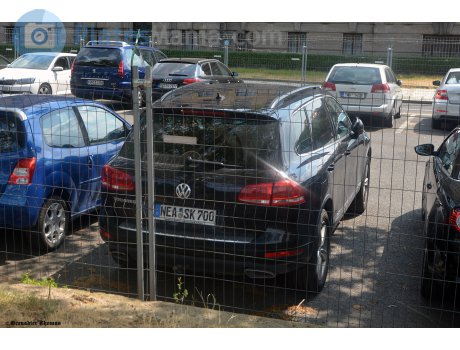License Plates: (164, 204, 206, 221)
